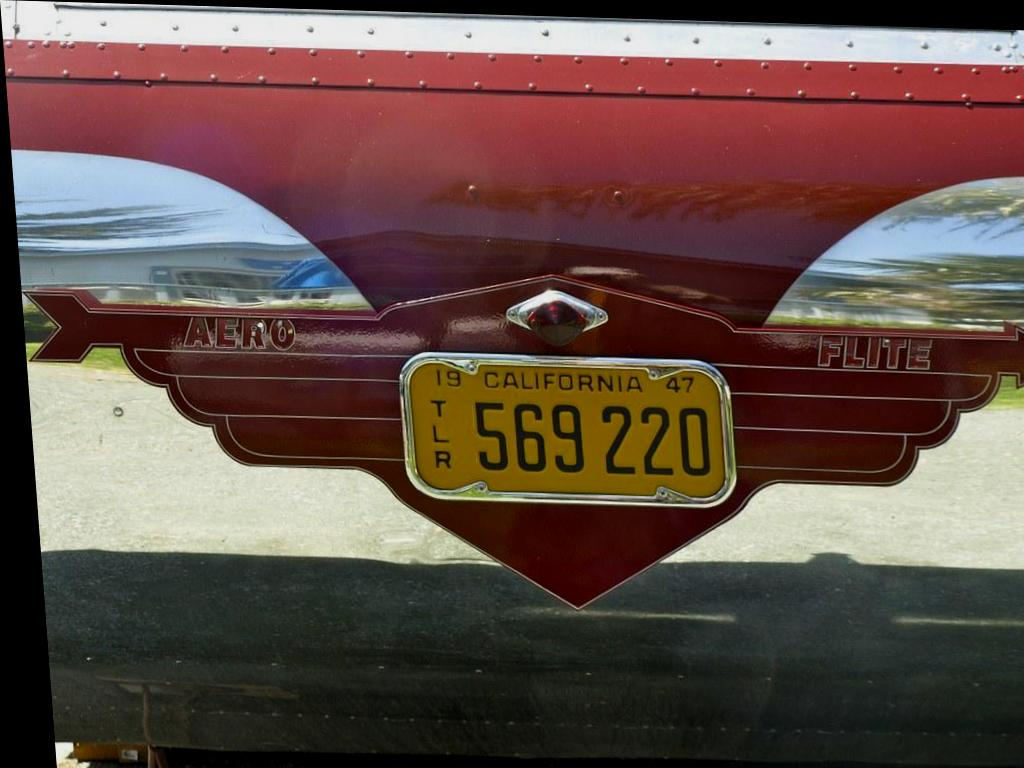License_Plate: (394, 349, 742, 509)
